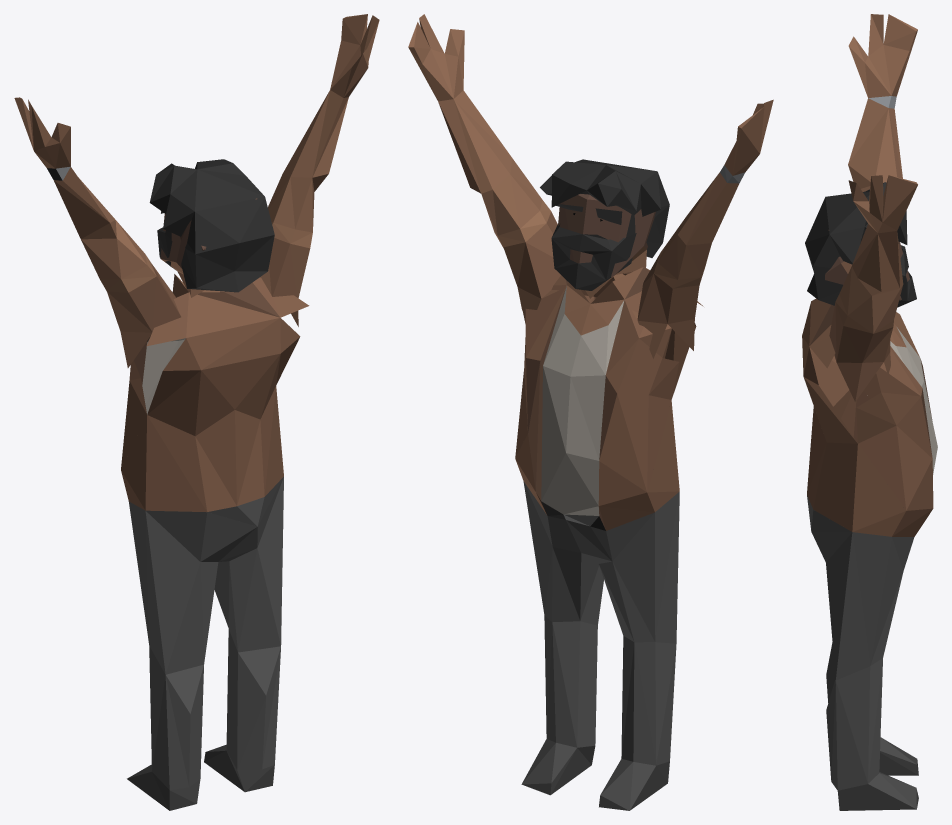
File: Cousin_Jump.obj
The picture shows the model from 3 angles, left to right: view 1: azimuth 30°, elevation 25°; view 2: azimuth 150°, elevation 25°; view 3: azimuth 270°, elevation 25°; orthographic projection. The views are drawn at different scales.
Parts seen in each view (by area): view 1: Cousin_Jump; view 2: Cousin_Jump; view 3: Cousin_Jump.
Part boxes in pixels (<box>): Cousin_Jump: <box>14,14,379,810</box>; Cousin_Jump: <box>408,14,773,810</box>; Cousin_Jump: <box>802,14,937,810</box>.
Bounding box in the file's own units: 1.08 × 2.15 × 0.3813.
Materials: 1 (1 with a texture image).
